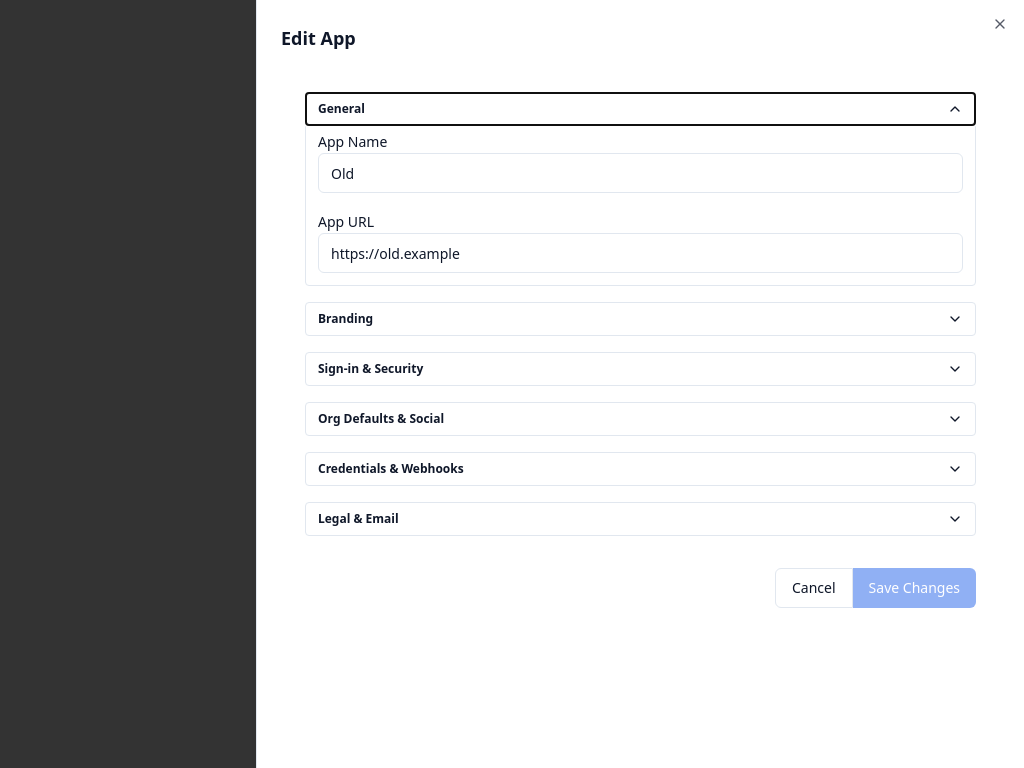
Test case: AppEditDrawer › shows "no client secret" for a public app and a Generate button
The width and height of the screenshot is (1024, 768).
Click the button "Credentials & Webhooks": x=391, y=468 [306,453,975,485]
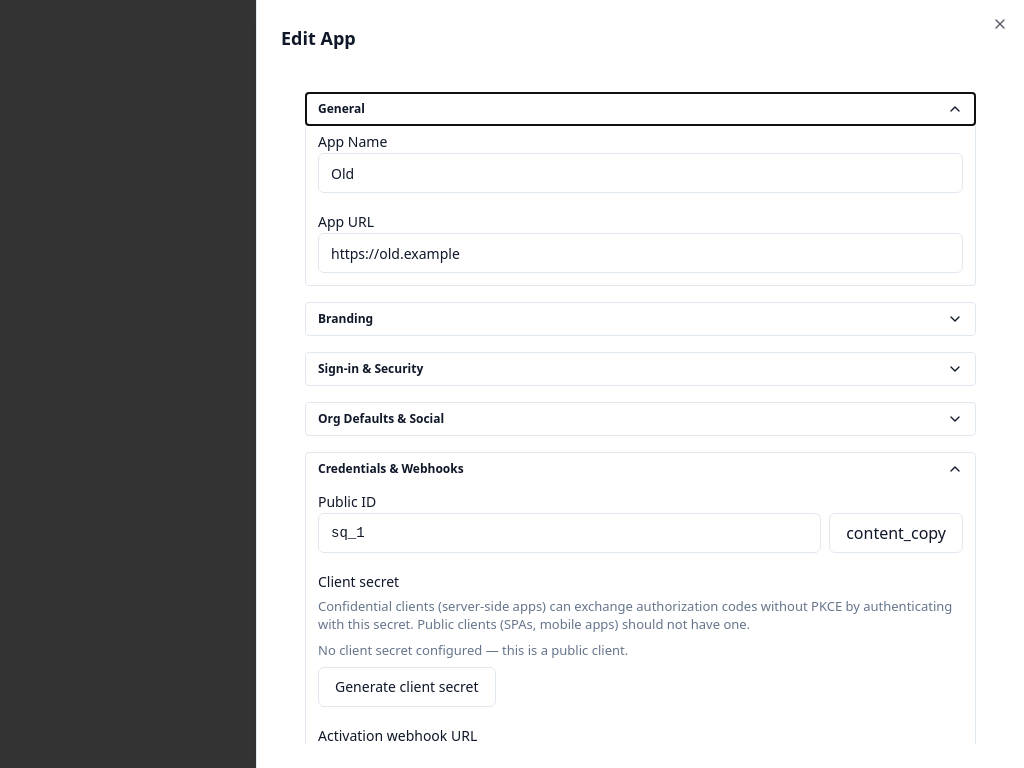
Expected: the text "No client secret configured — this is a public client." is shown, [318,641,628,659]
Expected: the button "Generate client secret" is shown, [318,667,496,707]
